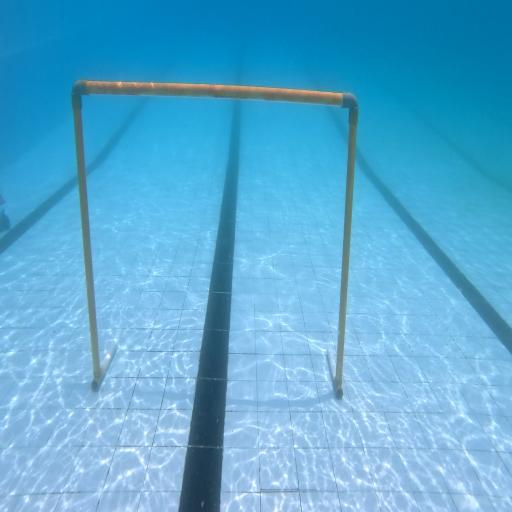gate: (72, 80, 358, 398)
